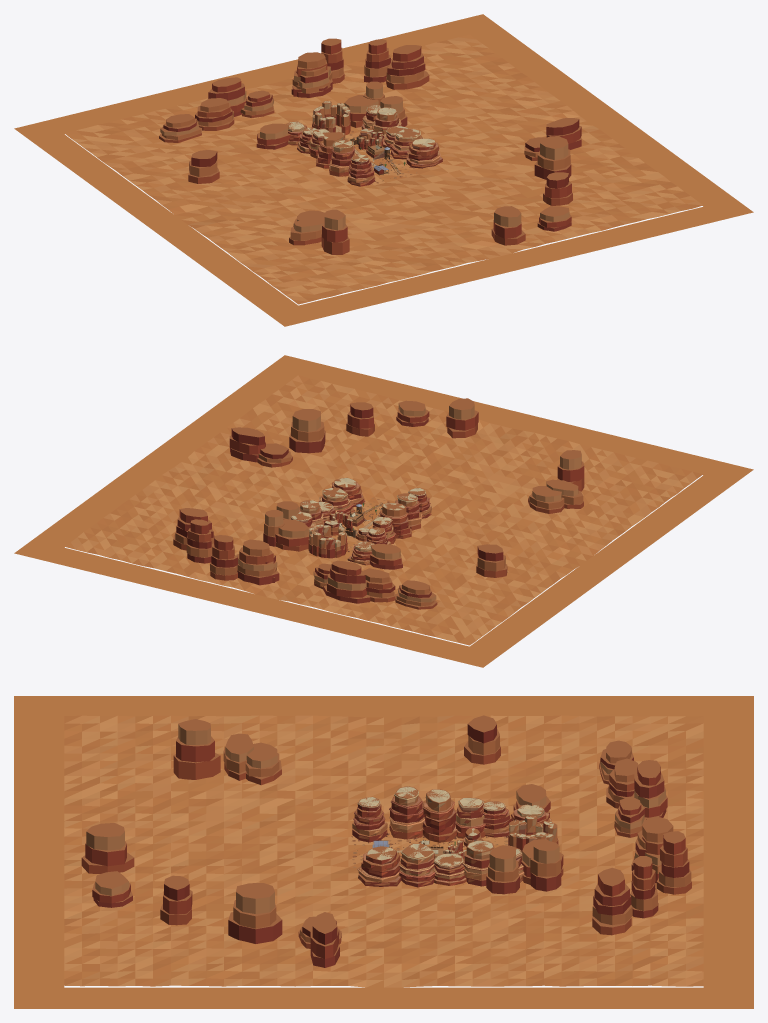
File: canyon.glb
3 renders of one model, top to bottom at view 1: azimuth 30°, elevation 25°; view 2: azimuth 150°, elevation 25°; view 3: azimuth 270°, elevation 25°, orthographic. The views are drawn at different scales.
Parts seen in each view (by area): view 1: canyon, coarse.mesas, dress; view 2: canyon, coarse.mesas, dress; view 3: canyon, coarse.mesas, dress.
Boxes of the visible parts, x1,y1,x2,y2 form: canyon: (14, 14, 753, 326); coarse.mesas: (286, 100, 442, 185); dress: (287, 101, 442, 186); canyon: (14, 355, 753, 667); coarse.mesas: (291, 477, 431, 565); dress: (290, 478, 431, 565); canyon: (14, 696, 753, 1008); coarse.mesas: (352, 786, 558, 887); dress: (351, 786, 558, 886).
Bounding box in the file's own units: 500 × 38.25 × 500.
